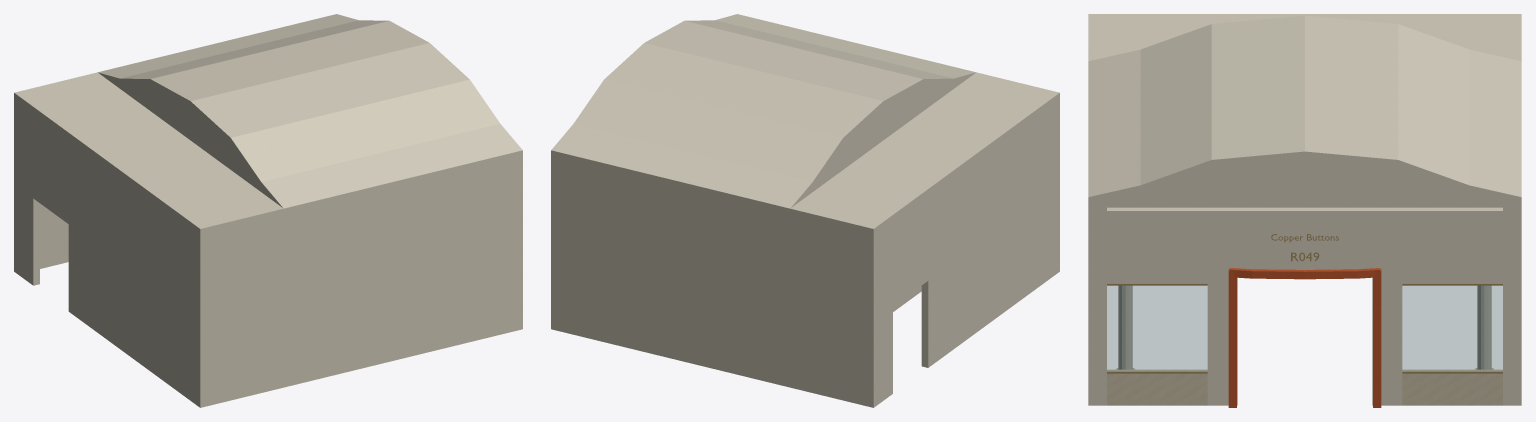
The model's file is SHOP_D09_P100_A340__shell.glb.
3 views of the same model, side by side, from view 1: azimuth 30°, elevation 25°; view 2: azimuth 150°, elevation 25°; view 3: azimuth 270°, elevation 25° (orthographic). The views are drawn at different scales.
Parts seen in each view (by area): view 1: SHOP_D09_P100_A340__shell__ivory_enamel; view 2: SHOP_D09_P100_A340__shell__ivory_enamel; view 3: SHOP_D09_P100_A340__shell__ivory_enamel, SHOP_D09_P100_A340__shell__shop_glass, SHOP_D09_P100_A340__shell__warm_stone, SHOP_D09_P100_A340__shell__retail_terracotta_enamel, SHOP_D09_P100_A340__shell__champagne_metal.
Part boxes in pixels (x1,y1,x2,y2): SHOP_D09_P100_A340__shell__ivory_enamel: (14, 14, 522, 407); SHOP_D09_P100_A340__shell__ivory_enamel: (551, 14, 1059, 407); SHOP_D09_P100_A340__shell__ivory_enamel: (1088, 14, 1521, 405); SHOP_D09_P100_A340__shell__shop_glass: (1107, 286, 1502, 370); SHOP_D09_P100_A340__shell__warm_stone: (1107, 368, 1502, 405); SHOP_D09_P100_A340__shell__retail_terracotta_enamel: (1228, 268, 1381, 407); SHOP_D09_P100_A340__shell__champagne_metal: (1107, 234, 1502, 373).
Size of the model in its own units: 11.86 by 7.5 by 11.6.
6 materials, 4 textured.
